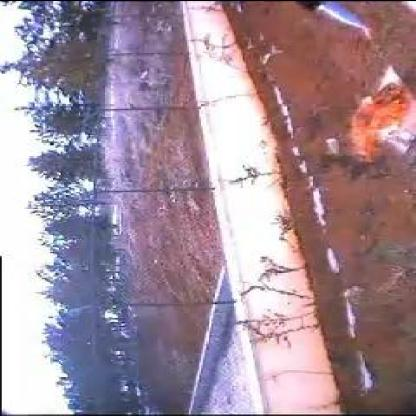-: (311, 112, 353, 134)
foggia-v2-map80-epoch100 - v1 4323: (352, 79, 404, 147)
